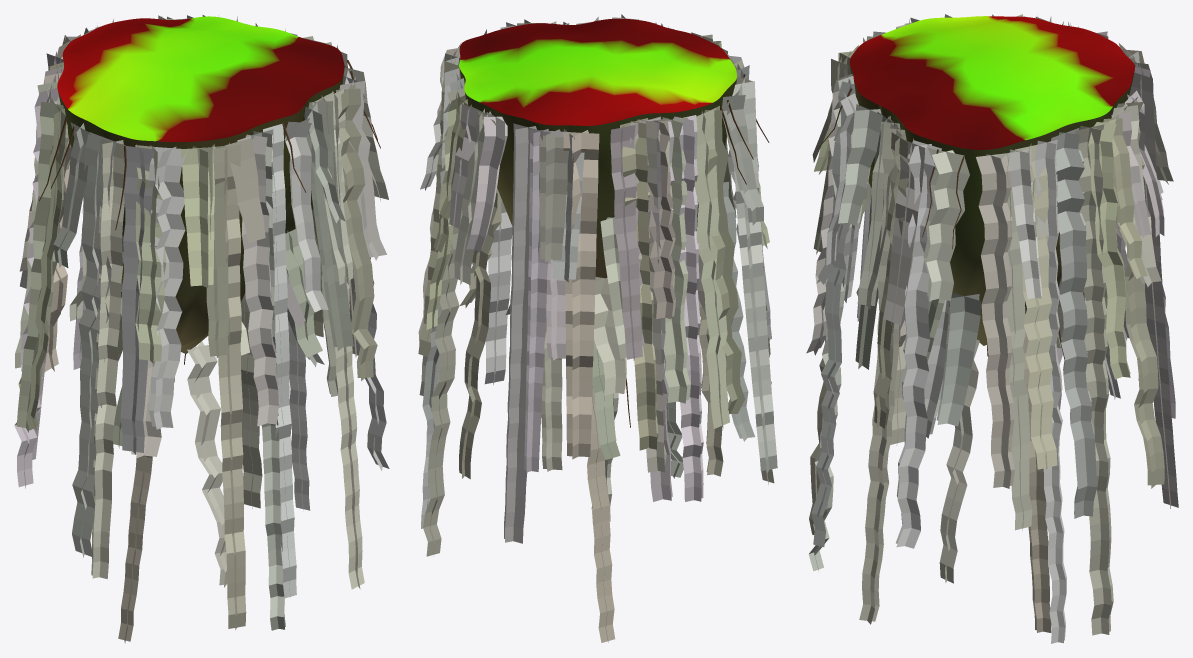
The model's file is SM_H14_Floater03.fbx.
3 renders of one model, left to right at view 1: azimuth 30°, elevation 25°; view 2: azimuth 150°, elevation 25°; view 3: azimuth 270°, elevation 25°, orthographic. The views are drawn at different scales.
Visible parts, largest first — view 1: SM_H14_Floater03_Ivy, SM_H14_Floater03; view 2: SM_H14_Floater03_Ivy, SM_H14_Floater03; view 3: SM_H14_Floater03_Ivy, SM_H14_Floater03.
Boxes of the visible parts, bbox=[...] form: SM_H14_Floater03_Ivy: bbox=[14, 15, 389, 643]; SM_H14_Floater03: bbox=[57, 16, 344, 353]; SM_H14_Floater03_Ivy: bbox=[418, 14, 777, 642]; SM_H14_Floater03: bbox=[459, 18, 736, 278]; SM_H14_Floater03_Ivy: bbox=[806, 14, 1178, 643]; SM_H14_Floater03: bbox=[849, 16, 1134, 345].
Size of the model in its own units: 21.09 by 35.02 by 19.98.
